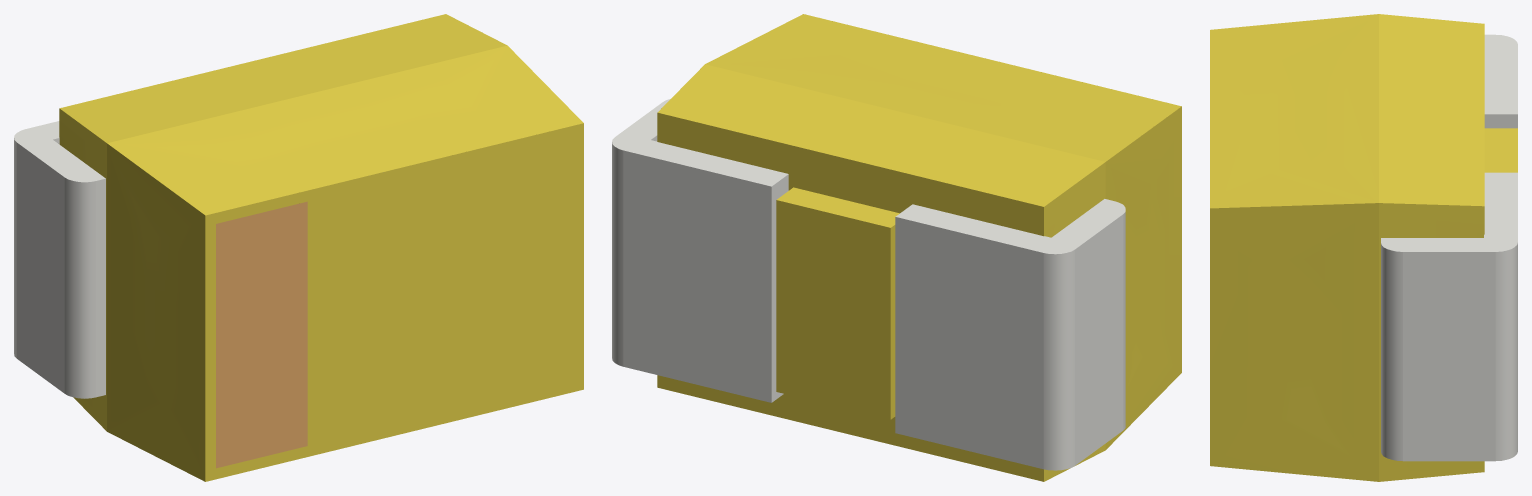
Rendered from CP_EIA-2012-12_Kemet-R.glb.
The picture shows the model from 3 angles, left to right: view 1: azimuth 30°, elevation 25°; view 2: azimuth 150°, elevation 25°; view 3: azimuth 270°, elevation 25°; orthographic projection. The views are drawn at different scales.
Visible parts, largest first — view 1: Shape_IndexedFaceSet.025, Shape_IndexedFaceSet.024, Shape_IndexedFaceSet.026, Shape_IndexedFaceSet.039, Shape_IndexedFaceSet.014, Shape_IndexedFaceSet.033, Shape_IndexedFaceSet.032, Shape_IndexedFaceSet.015, Shape_IndexedFaceSet.016, Shape_IndexedFaceSet.031, Shape_IndexedFaceSet.028; view 2: Shape_IndexedFaceSet.029, Shape_IndexedFaceSet, Shape_IndexedFaceSet.024, Shape_IndexedFaceSet.014, Shape_IndexedFaceSet.034, Shape_IndexedFaceSet.011, Shape_IndexedFaceSet.026, Shape_IndexedFaceSet.033, Shape_IndexedFaceSet.028, Shape_IndexedFaceSet.016, Shape_IndexedFaceSet.001, Shape_IndexedFaceSet.002 (+5 smaller); view 3: Shape_IndexedFaceSet.013, Shape_IndexedFaceSet.024, Shape_IndexedFaceSet.014, Shape_IndexedFaceSet.005, Shape_IndexedFaceSet.010, Shape_IndexedFaceSet.002, Shape_IndexedFaceSet.006, Shape_IndexedFaceSet.001, Shape_IndexedFaceSet.016, Shape_IndexedFaceSet.022, Shape_IndexedFaceSet.017.
Boxes of the visible parts, x1,y1,x2,y2 form: Shape_IndexedFaceSet.025: [205, 123, 583, 481]; Shape_IndexedFaceSet.024: [107, 45, 583, 215]; Shape_IndexedFaceSet.026: [107, 143, 205, 481]; Shape_IndexedFaceSet.039: [216, 201, 307, 468]; Shape_IndexedFaceSet.014: [60, 14, 507, 143]; Shape_IndexedFaceSet.033: [17, 143, 64, 393]; Shape_IndexedFaceSet.032: [64, 178, 95, 398]; Shape_IndexedFaceSet.015: [59, 108, 106, 431]; Shape_IndexedFaceSet.016: [14, 121, 105, 182]; Shape_IndexedFaceSet.031: [96, 178, 105, 397]; Shape_IndexedFaceSet.028: [14, 138, 16, 358]; Shape_IndexedFaceSet.029: [895, 217, 1043, 469]; Shape_IndexedFaceSet: [623, 150, 771, 402]; Shape_IndexedFaceSet.024: [705, 14, 1181, 161]; Shape_IndexedFaceSet.014: [658, 64, 1104, 206]; Shape_IndexedFaceSet.034: [776, 200, 890, 419]; Shape_IndexedFaceSet.011: [657, 112, 1043, 481]; Shape_IndexedFaceSet.026: [1105, 106, 1181, 449]; Shape_IndexedFaceSet.033: [1075, 214, 1122, 465]; Shape_IndexedFaceSet.028: [1043, 249, 1074, 470]; Shape_IndexedFaceSet.016: [895, 199, 1125, 254]; Shape_IndexedFaceSet.001: [612, 99, 788, 186]; Shape_IndexedFaceSet.002: [612, 142, 623, 366]; Shape_IndexedFaceSet.013: [1210, 203, 1378, 481]; Shape_IndexedFaceSet.024: [1210, 14, 1378, 208]; Shape_IndexedFaceSet.014: [1379, 14, 1484, 206]; Shape_IndexedFaceSet.005: [1403, 252, 1495, 461]; Shape_IndexedFaceSet.010: [1379, 203, 1484, 481]; Shape_IndexedFaceSet.002: [1495, 243, 1517, 460]; Shape_IndexedFaceSet.006: [1381, 243, 1402, 460]; Shape_IndexedFaceSet.001: [1381, 172, 1517, 251]; Shape_IndexedFaceSet.016: [1484, 34, 1517, 114]; Shape_IndexedFaceSet.022: [1484, 128, 1517, 172]; Shape_IndexedFaceSet.017: [1484, 114, 1517, 128].
Size of what is drawn, in the model's own units: 0.788 by 0.472 by 0.472.
